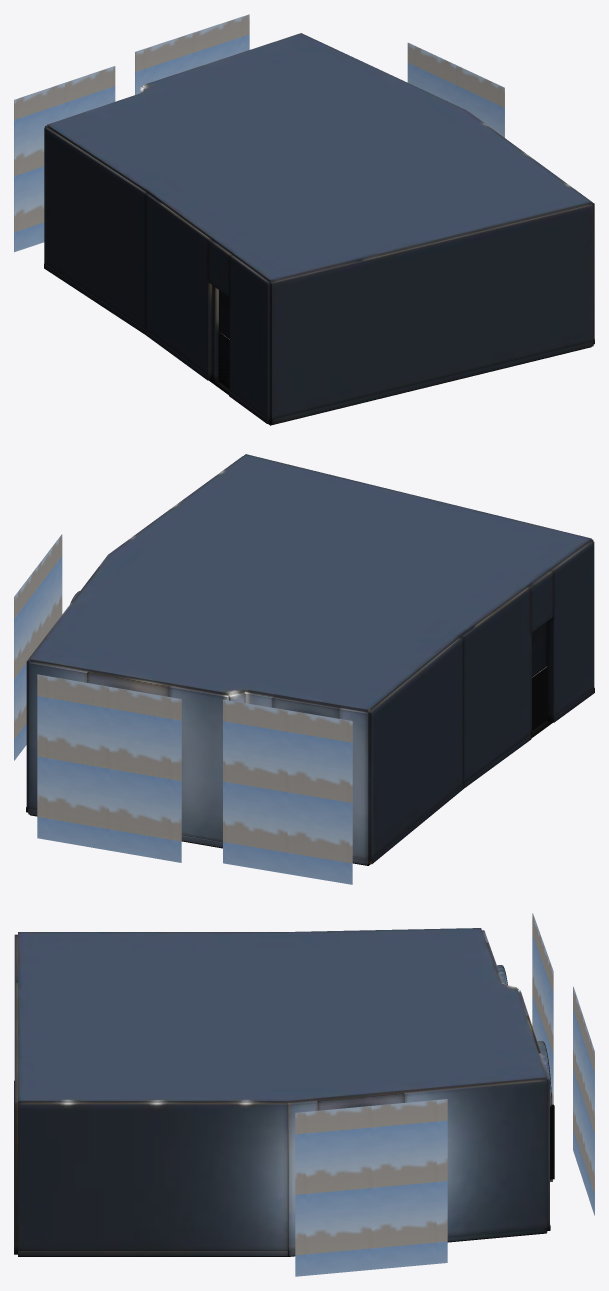
File: twobed_m.glb
The picture shows the model from 3 angles, top to bottom: view 1: azimuth 30°, elevation 25°; view 2: azimuth 150°, elevation 25°; view 3: azimuth 270°, elevation 25°; orthographic projection. The views are drawn at different scales.
Visible parts, largest first — view 1: BAKED_interior, Ceiling_BAKED, Window_0_POSITION_UNSOURCED_backdrop, Window_2_POSITION_UNSOURCED_backdrop, Window_3_POSITION_UNSOURCED_backdrop; view 2: Ceiling_BAKED, BAKED_interior, Window_2_POSITION_UNSOURCED_backdrop, Window_0_POSITION_UNSOURCED_backdrop, Window_3_POSITION_UNSOURCED_backdrop; view 3: Ceiling_BAKED, BAKED_interior, Window_3_POSITION_UNSOURCED_backdrop, Window_2_POSITION_UNSOURCED_backdrop, Window_0_POSITION_UNSOURCED_backdrop.
Boxes of the visible parts, x1,y1,x2,y2 form: BAKED_interior: (44, 85, 594, 425); Ceiling_BAKED: (47, 33, 591, 282); Window_0_POSITION_UNSOURCED_backdrop: (14, 66, 115, 252); Window_2_POSITION_UNSOURCED_backdrop: (135, 14, 249, 94); Window_3_POSITION_UNSOURCED_backdrop: (407, 42, 504, 137); Ceiling_BAKED: (30, 454, 591, 712); BAKED_interior: (26, 456, 594, 865); Window_2_POSITION_UNSOURCED_backdrop: (37, 674, 181, 862); Window_0_POSITION_UNSOURCED_backdrop: (223, 699, 352, 884); Window_3_POSITION_UNSOURCED_backdrop: (14, 534, 62, 760); Ceiling_BAKED: (18, 928, 546, 1103); BAKED_interior: (14, 930, 554, 1256); Window_3_POSITION_UNSOURCED_backdrop: (295, 1099, 447, 1276); Window_2_POSITION_UNSOURCED_backdrop: (573, 986, 594, 1215); Window_0_POSITION_UNSOURCED_backdrop: (532, 913, 553, 1104).
Bounding box in the file's own units: 8.51 × 3.3 × 10.45.
6 materials, 2 textured.
